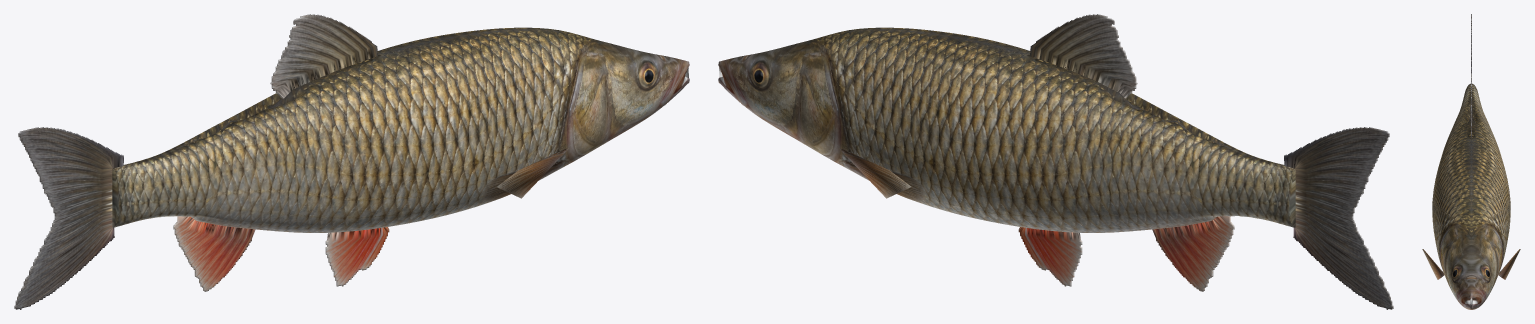
Rendered from chub.glb.
The picture shows the model from 3 angles, left to right: view 1: azimuth 30°, elevation 25°; view 2: azimuth 150°, elevation 25°; view 3: azimuth 270°, elevation 25°; orthographic projection. The views are drawn at different scales.
Visible parts, largest first — view 1: chub_realistic.003; view 2: chub_realistic.003; view 3: chub_realistic.003.
Part boxes in pixels (x1,y1,x2,y2): chub_realistic.003: [14, 14, 689, 309]; chub_realistic.003: [718, 14, 1393, 309]; chub_realistic.003: [1422, 14, 1520, 309].
Bounding box in the file's own units: 1 × 0.3965 × 0.1891.
Materials: 3 (3 with a texture image).
